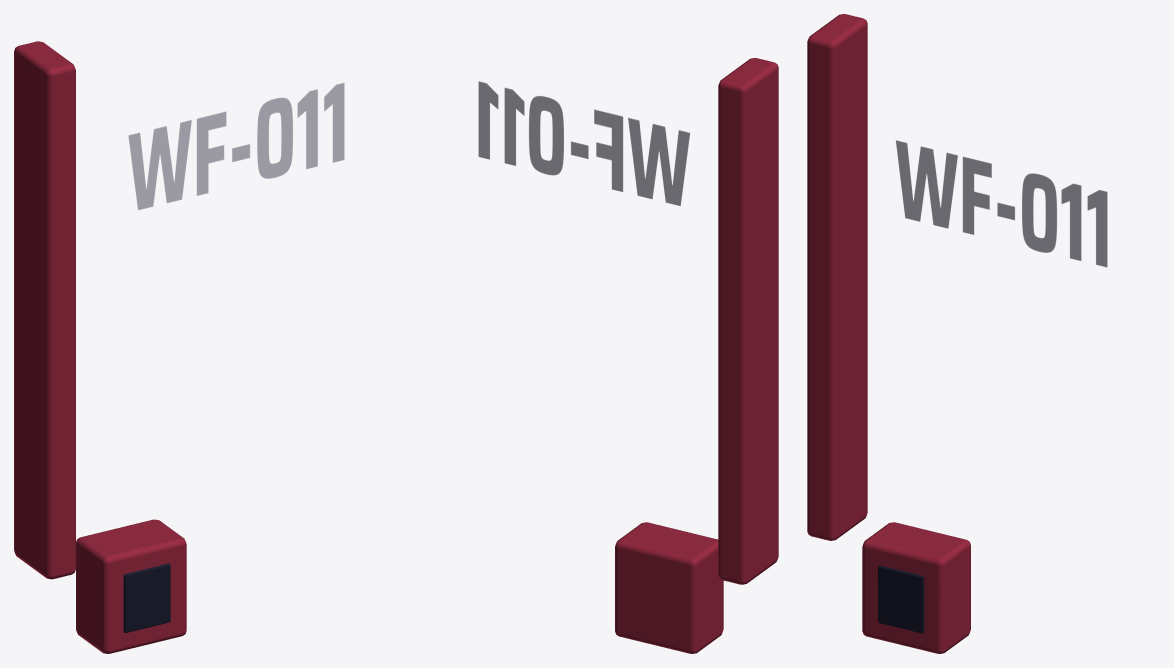
Rendered from LIVERY_wf011_far.glb.
The picture shows the model from 3 angles, left to right: view 1: azimuth 30°, elevation 25°; view 2: azimuth 150°, elevation 25°; view 3: azimuth 330°, elevation 25°; orthographic projection. The views are drawn at different scales.
Visible parts, largest first — view 1: LIVERY_wf011_far.001; view 2: LIVERY_wf011_far.001; view 3: LIVERY_wf011_far.001.
Boxes of the visible parts, left/top/right/bottom form: LIVERY_wf011_far.001: left=14, top=41, right=344, bottom=653; LIVERY_wf011_far.001: left=478, top=58, right=778, bottom=653; LIVERY_wf011_far.001: left=807, top=14, right=1107, bottom=653.
Bounding box in the file's own units: 1.9 × 3.05 × 0.35.
Materials: 3 (1 with a texture image).
